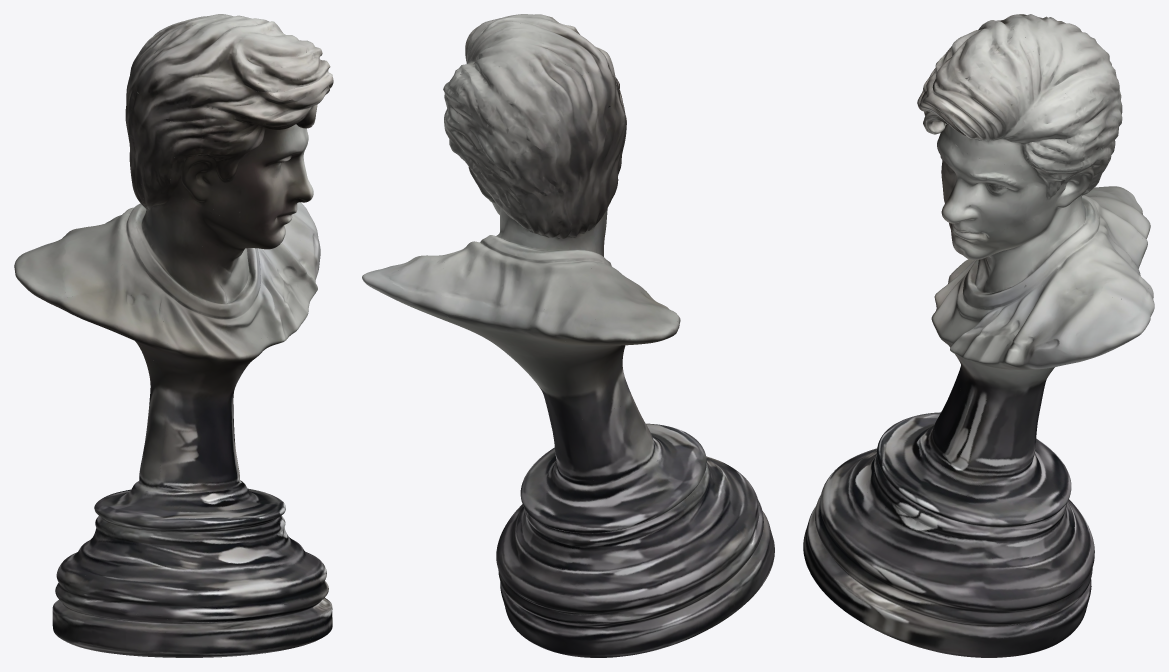
File: bust.glb
3 renders of one model, left to right at view 1: azimuth 30°, elevation 25°; view 2: azimuth 150°, elevation 25°; view 3: azimuth 270°, elevation 25°, orthographic. The views are drawn at different scales.
Visible parts, largest first — view 1: bust; view 2: bust; view 3: bust.
Boxes of the visible parts, left/top/right/bottom form: bust: left=14, top=14, right=333, bottom=657; bust: left=362, top=14, right=774, bottom=657; bust: left=803, top=14, right=1154, bottom=657.
Bounding box in the file's own units: 0.41 × 0.7517 × 0.3838.
Materials: 1 (1 with a texture image).
